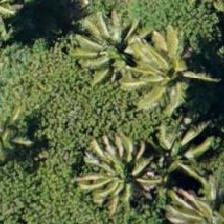coconut_tree: (118, 25, 208, 115), (64, 8, 154, 98), (73, 139, 163, 223), (158, 171, 223, 223)
